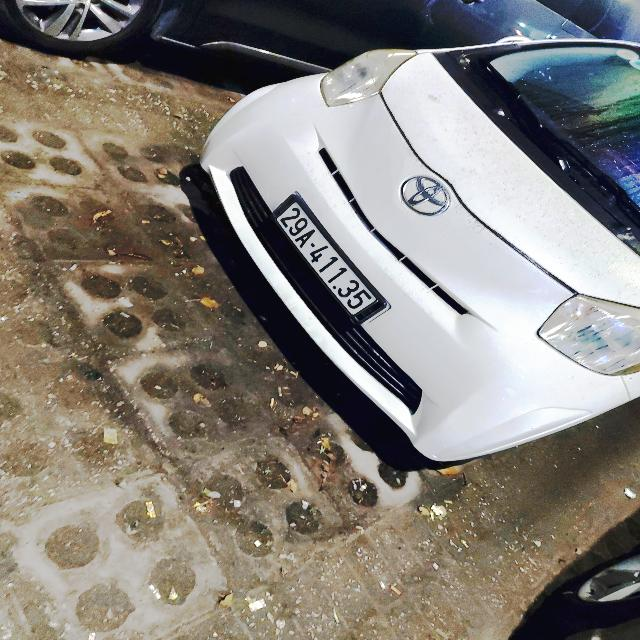license_plate: (274, 195, 394, 324)
